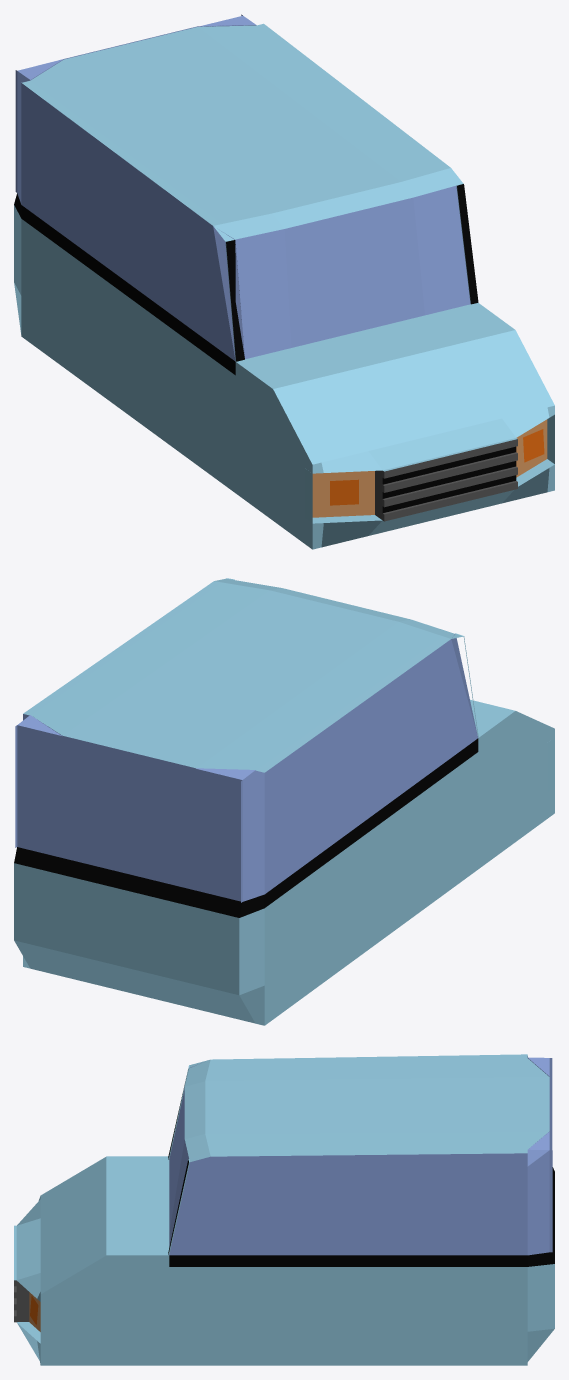
The model's file is car.fbx.
The picture shows the model from 3 angles, top to bottom: view 1: azimuth 30°, elevation 25°; view 2: azimuth 150°, elevation 25°; view 3: azimuth 270°, elevation 25°; orthographic projection. The views are drawn at different scales.
Parts seen in each view (by area): view 1: Cube; view 2: Cube; view 3: Cube.
Boxes of the visible parts, x1=… form: Cube: x1=14, y1=14, x2=554, y2=549; Cube: x1=14, y1=578, x2=554, y2=1025; Cube: x1=14, y1=1054, x2=554, y2=1365.
Bounding box in the file's own units: 200 × 200 × 462.
